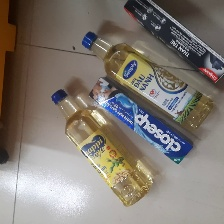CloseUp Tuyet: (87, 76, 195, 165)
Colgate Than: (123, 1, 224, 85)
Happy Soya: (50, 88, 155, 208)
Simply: (81, 32, 216, 130)
